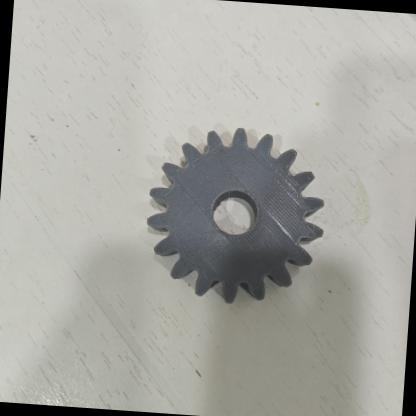gear: (125, 113, 341, 326)
